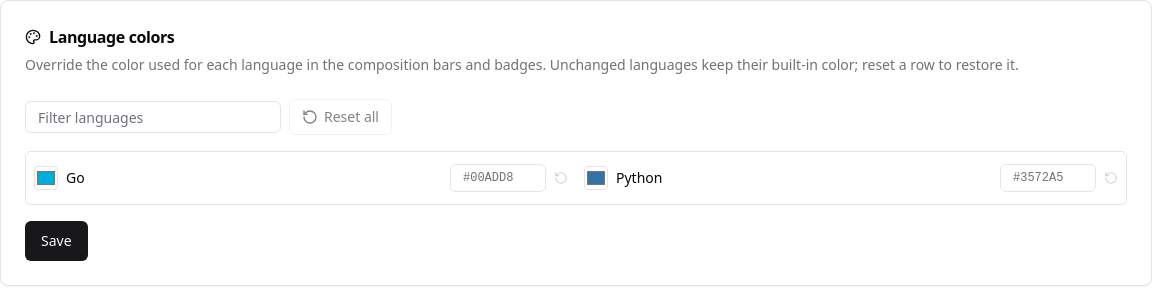
LanguageSettings › 过滤语言并按默认色占位
Expected: the text "Go" is shown, 66,168 -> 85,187
In the field with placeholder "Filter languages": x=153, y=117 25,101 -> 281,133, type "py"
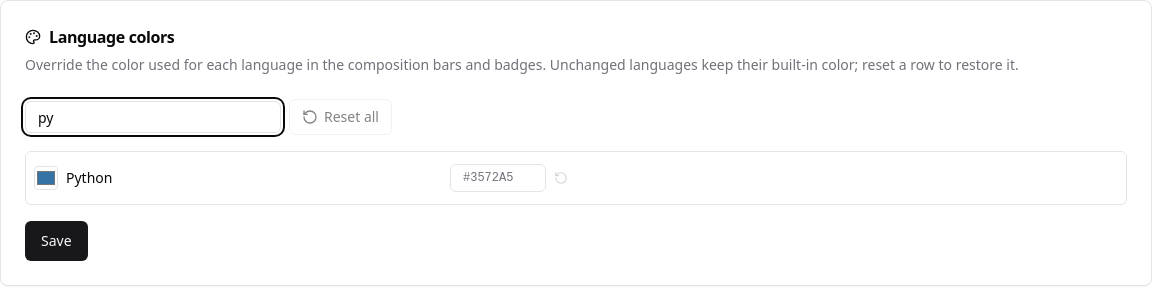
Expected: the text "Python" is shown, 66,168 -> 112,187
Now the text "Go" is gone
